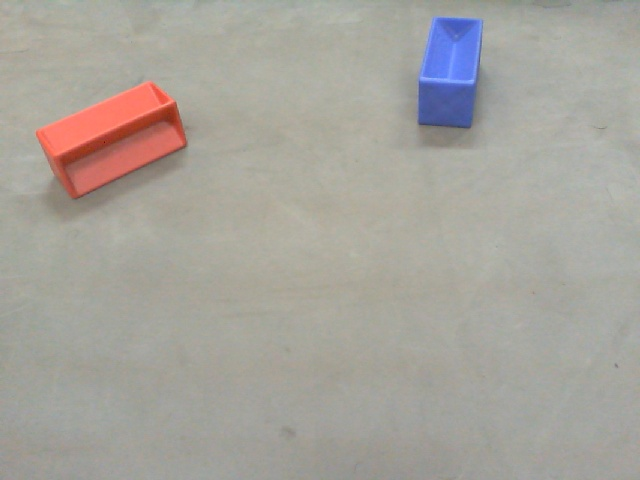BlueSample: (416, 13, 485, 133)
RedSample: (30, 79, 190, 203)
